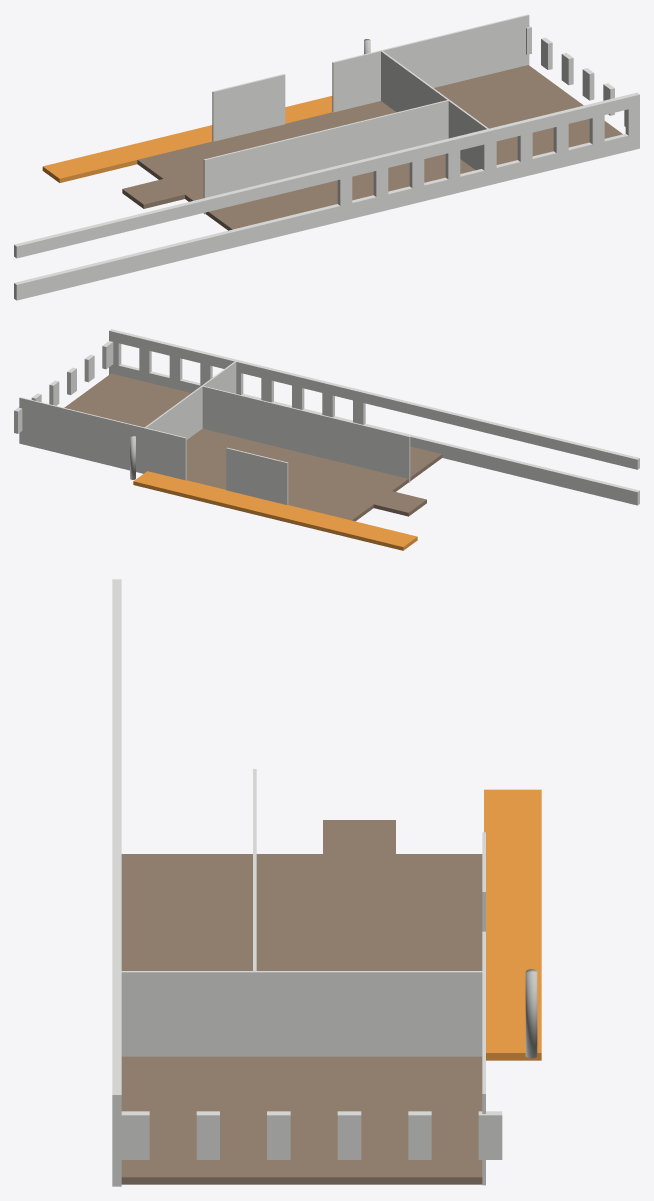
Rendered from SM_Bygg_Helgasetr_P2_O_S.fbx.
The picture shows the model from 3 angles, top to bottom: view 1: azimuth 30°, elevation 25°; view 2: azimuth 150°, elevation 25°; view 3: azimuth 270°, elevation 25°; orthographic projection. The views are drawn at different scales.
Parts seen in each view (by area): view 1: SM_Bygg_Helgasetr_P2_O_S; view 2: SM_Bygg_Helgasetr_P2_O_S; view 3: SM_Bygg_Helgasetr_P2_O_S.
Boxes of the visible parts, x1,y1,x2,y2 form: SM_Bygg_Helgasetr_P2_O_S: (14,14,639,300); SM_Bygg_Helgasetr_P2_O_S: (14,329,639,550); SM_Bygg_Helgasetr_P2_O_S: (112,579,541,1186).
Size of the model in its own units: 18.26 by 51.9 by 4.3.
